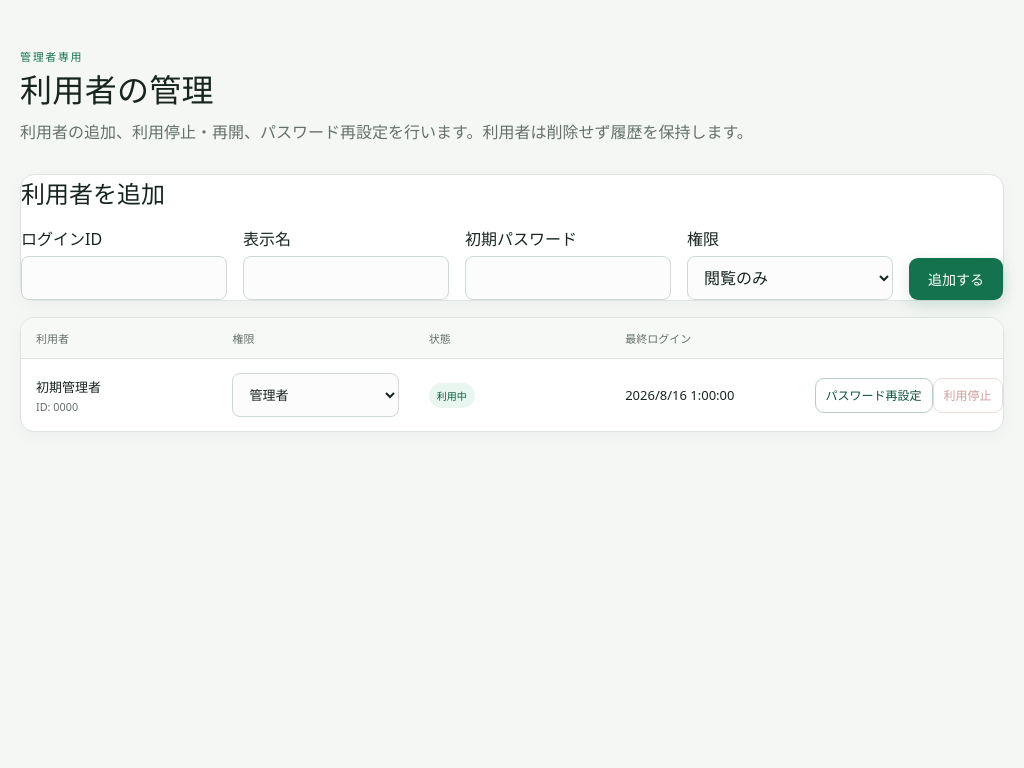
it: UsersPage password policy › keeps the reset dialog open when the confirmation does not match
This screenshot has width=1024, height=768.
expect the text "ID: 0000" is shown: met, box [36, 399, 78, 414]
Click the button "パスワード再設定" at (874, 395), box [815, 378, 933, 413]
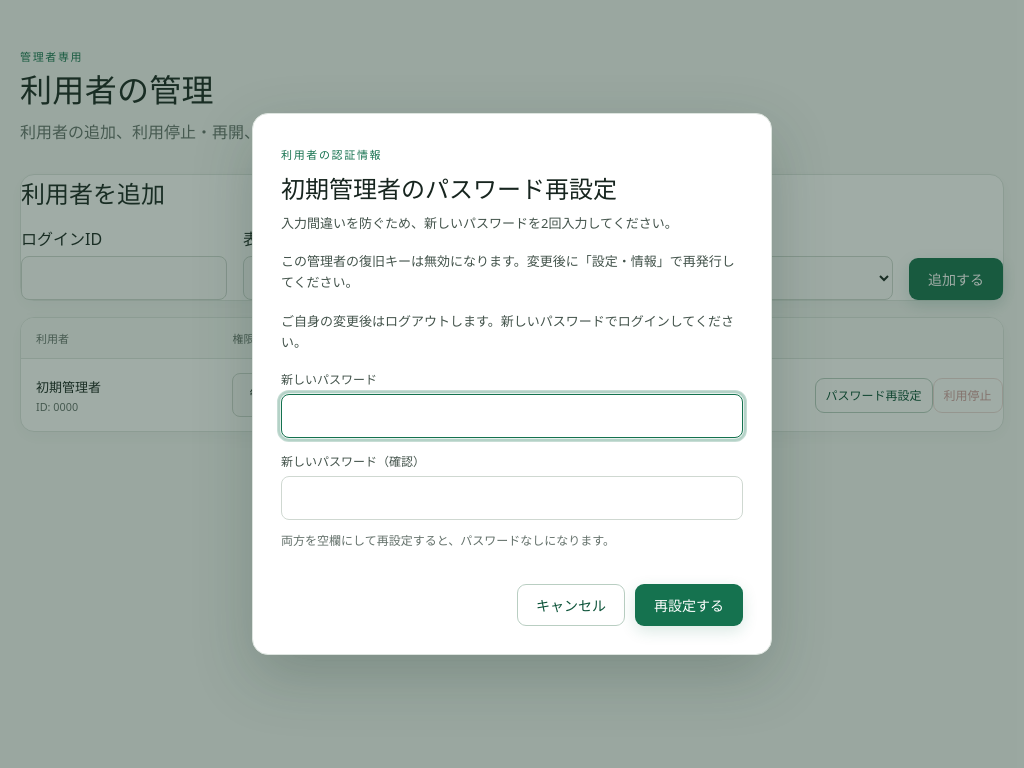
Type "first-password" into the password field labelled "新しいパスワード" at (512, 416), box [281, 394, 743, 438]
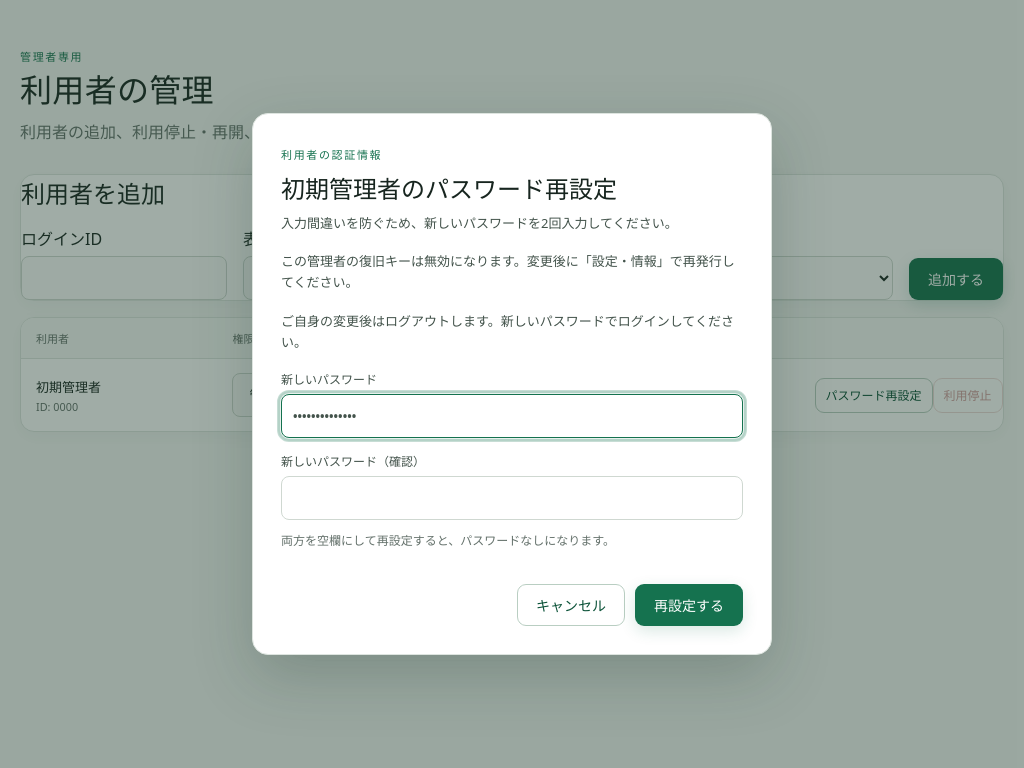
Type "different-password" into the password field labelled "新しいパスワード（確認）" at (512, 498), box [281, 476, 743, 520]
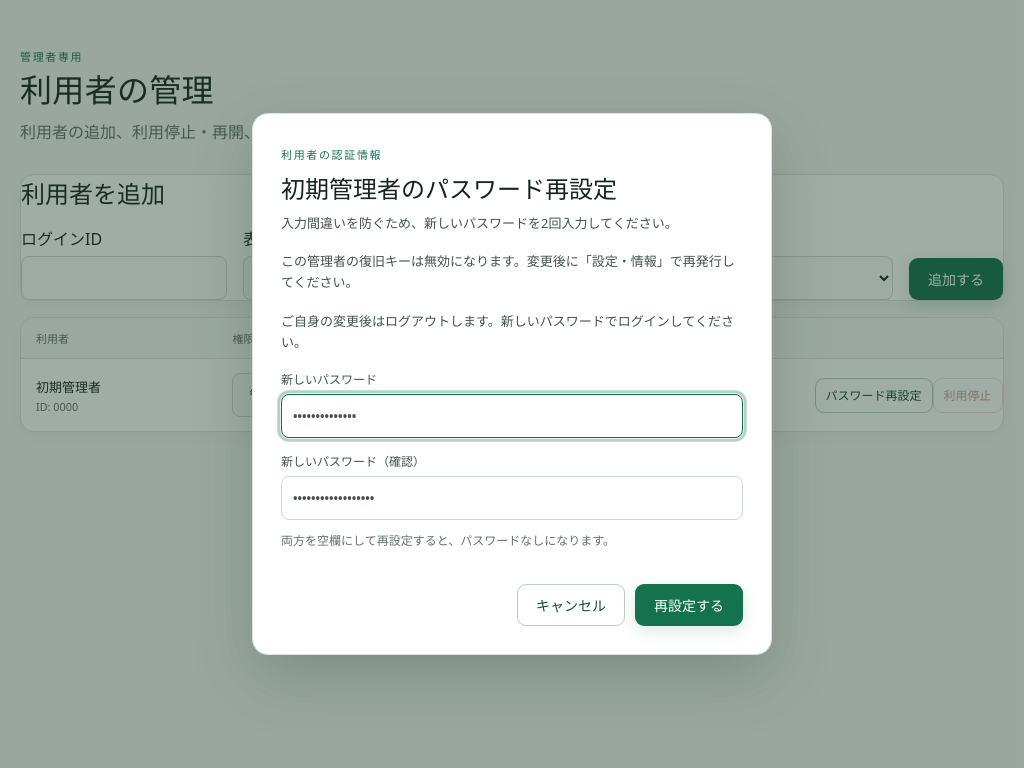
Click the button "再設定する" at (689, 606), box [635, 584, 743, 626]
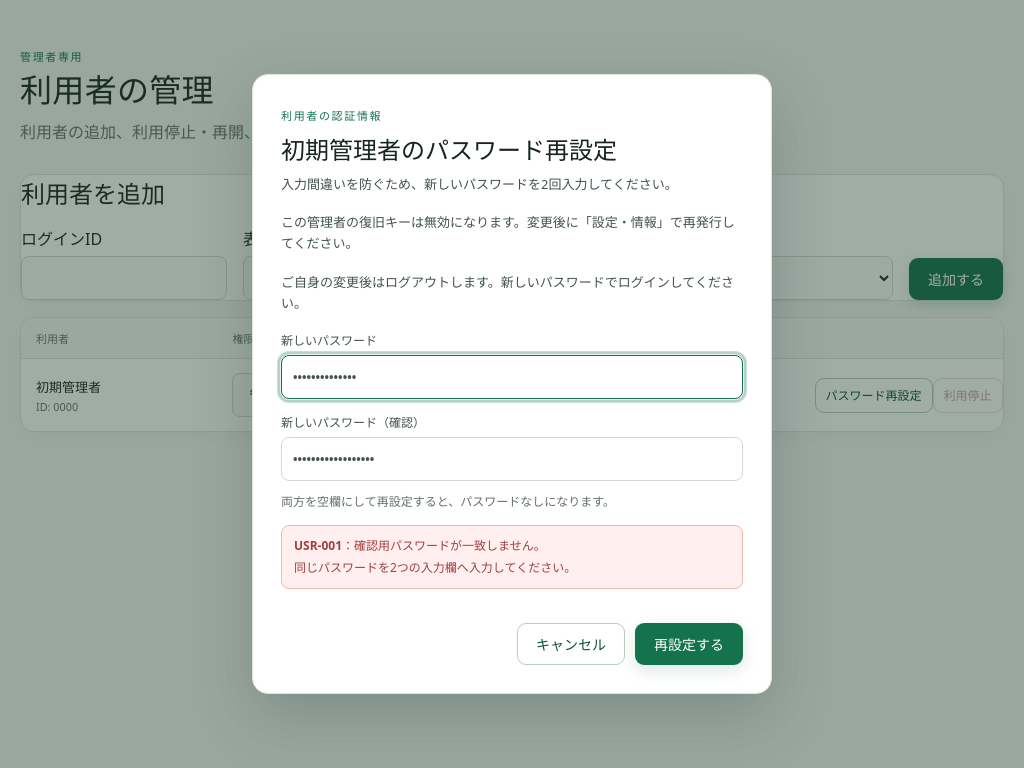
expect the dialog is shown: met, box [252, 74, 772, 694]
expect the message shows "確認用パスワードが一致しません": met, box [354, 538, 546, 554]
